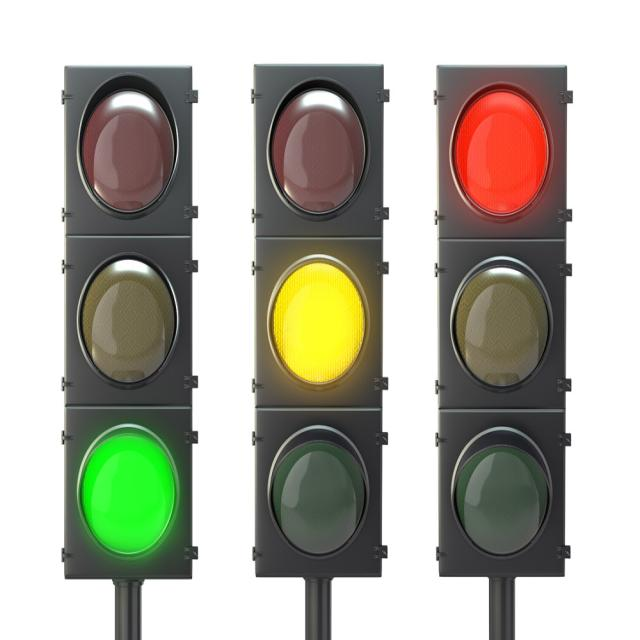green-lights: (80, 406, 179, 566)
red-lights: (444, 74, 551, 234)
yellow-lights: (272, 240, 368, 412)
